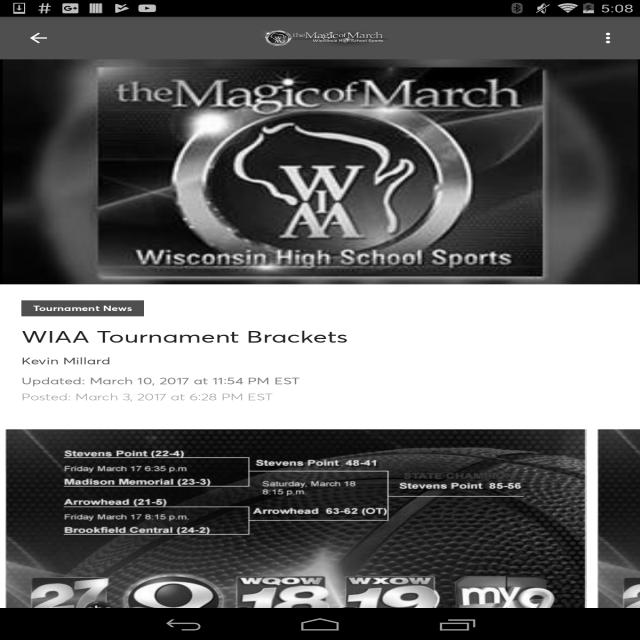ImageButton: (9, 17, 68, 59)
ImageView: (0, 59, 640, 284), (5, 422, 587, 640), (597, 422, 640, 640), (261, 22, 388, 54), (589, 22, 631, 54)
TextView: (21, 316, 619, 355), (21, 391, 619, 419), (21, 355, 619, 375), (21, 375, 619, 391), (21, 300, 144, 316)
